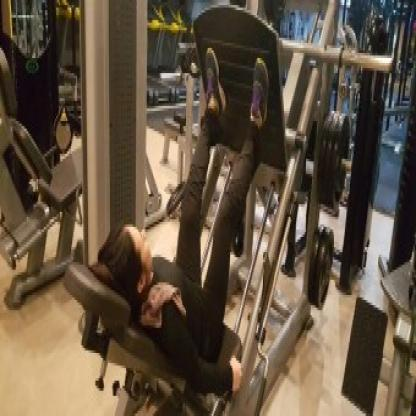leg press: (54, 0, 397, 414)
